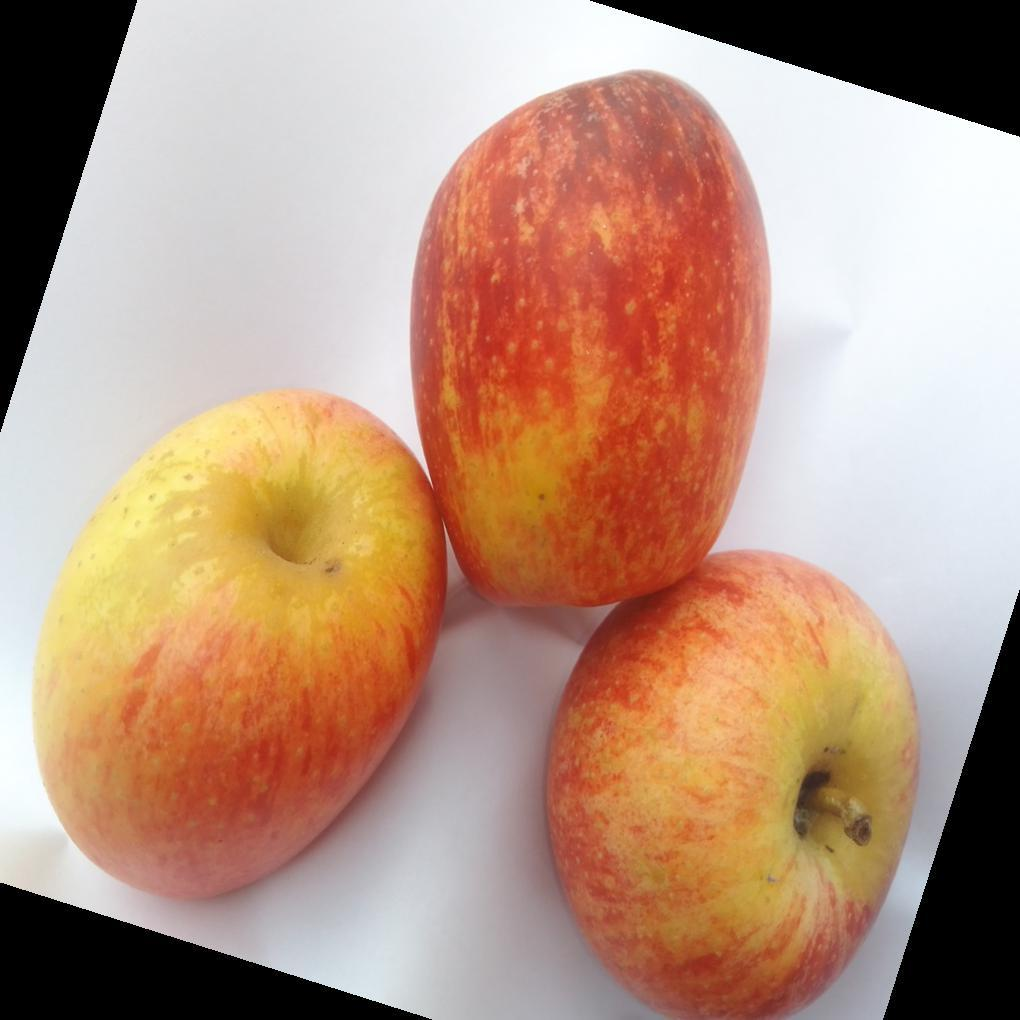FreshGuava: (31, 71, 921, 1020)
